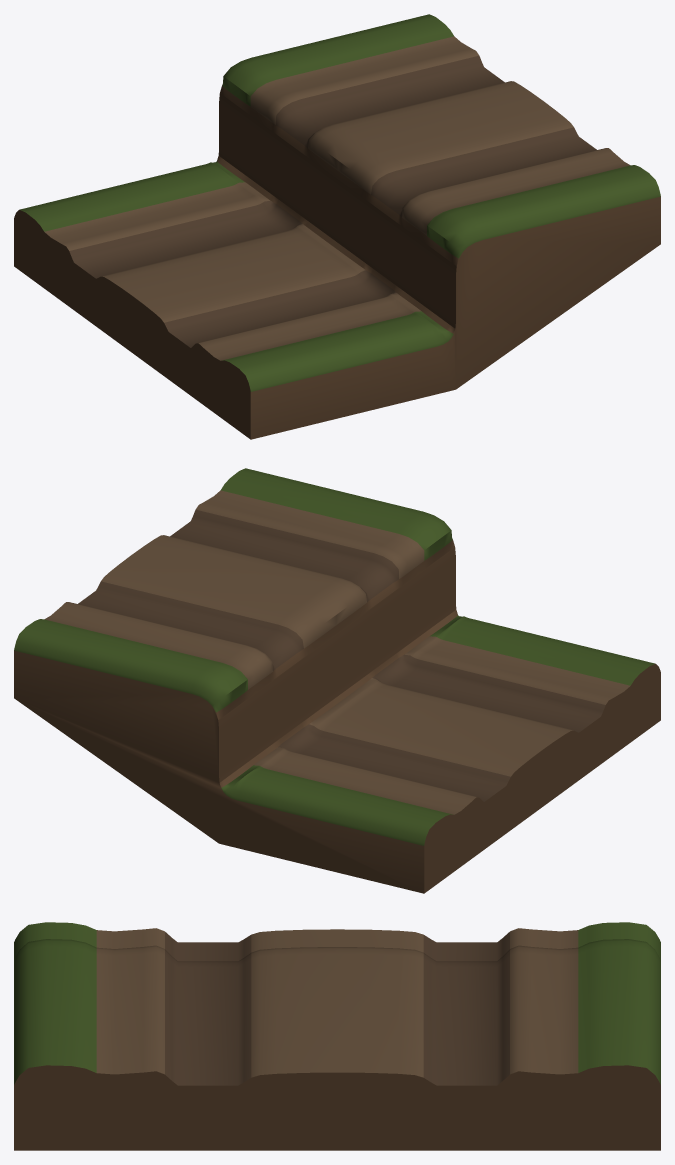
The picture shows the model from 3 angles, top to bottom: view 1: azimuth 30°, elevation 25°; view 2: azimuth 150°, elevation 25°; view 3: azimuth 270°, elevation 25°; orthographic projection. The views are drawn at different scales.
Visible parts, largest first — view 1: k2o; view 2: k2o; view 3: k2o.
Boxes of the visible parts, x1,y1,x2,y2 form: k2o: [14, 14, 660, 439]; k2o: [14, 468, 660, 893]; k2o: [14, 922, 660, 1150].
Size of the model in its own units: 9 by 3.31 by 9.
